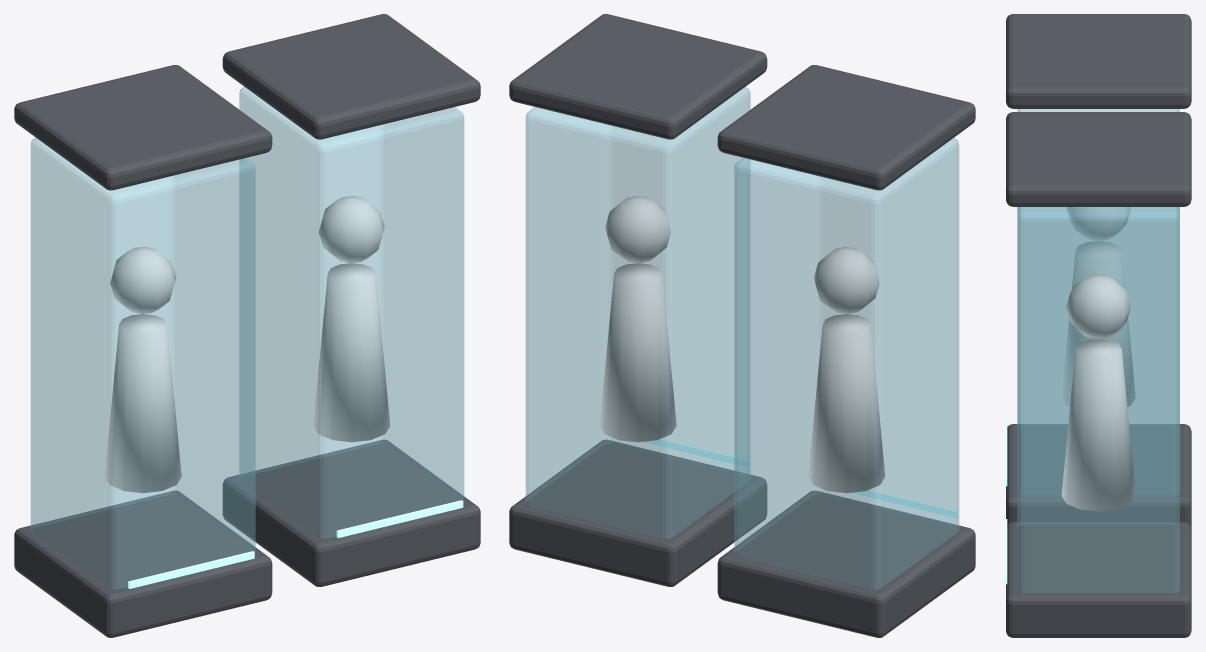
Rendered from cryo_pod_twin.glb.
3 views of the same model, side by side, from view 1: azimuth 30°, elevation 25°; view 2: azimuth 150°, elevation 25°; view 3: azimuth 270°, elevation 25° (orthographic). The views are drawn at different scales.
Parts seen in each view (by area): view 1: GD_cryo_pod_twin__m2, GD_cryo_pod_twin__m0, GD_cryo_pod_twin__m1, GD_cryo_pod_twin__m3; view 2: GD_cryo_pod_twin__m2, GD_cryo_pod_twin__m0, GD_cryo_pod_twin__m1, GD_cryo_pod_twin__m3; view 3: GD_cryo_pod_twin__m0, GD_cryo_pod_twin__m2, GD_cryo_pod_twin__m1, GD_cryo_pod_twin__m3.
Boxes of the visible parts, <box> form: GD_cryo_pod_twin__m2: <box>30,87,464,589</box>; GD_cryo_pod_twin__m0: <box>14,14,480,637</box>; GD_cryo_pod_twin__m1: <box>104,196,390,493</box>; GD_cryo_pod_twin__m3: <box>128,500,463,588</box>; GD_cryo_pod_twin__m2: <box>525,87,959,589</box>; GD_cryo_pod_twin__m0: <box>509,14,975,637</box>; GD_cryo_pod_twin__m1: <box>599,196,885,493</box>; GD_cryo_pod_twin__m3: <box>643,438,958,518</box>; GD_cryo_pod_twin__m0: <box>1006,14,1191,637</box>; GD_cryo_pod_twin__m2: <box>1017,109,1179,592</box>; GD_cryo_pod_twin__m1: <box>1061,207,1135,511</box>; GD_cryo_pod_twin__m3: <box>1004,421,1007,584</box>.
Size of the model in its own units: 1.8 by 2.15 by 0.806.
